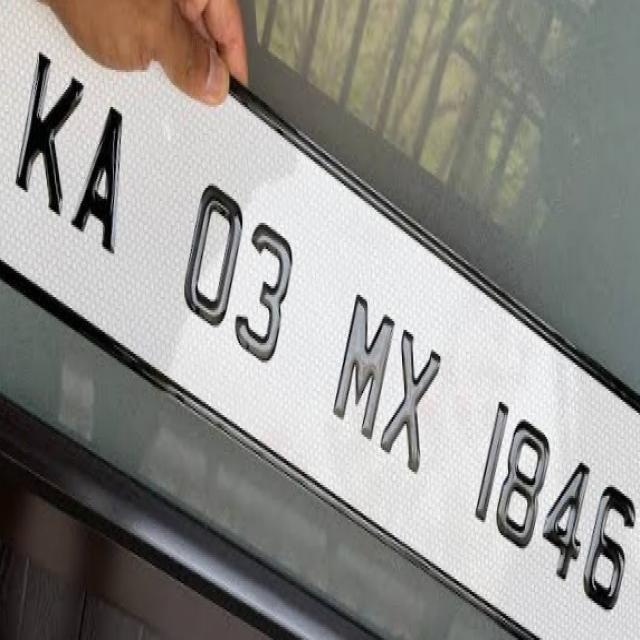0: (172, 168, 249, 336)
1: (464, 384, 513, 537)
3: (226, 206, 303, 384)
4: (533, 433, 597, 594)
6: (574, 467, 640, 626)
8: (490, 404, 558, 569)
A: (64, 89, 139, 265)
K: (7, 19, 95, 232)
M: (323, 266, 400, 453)
X: (373, 313, 448, 491)
